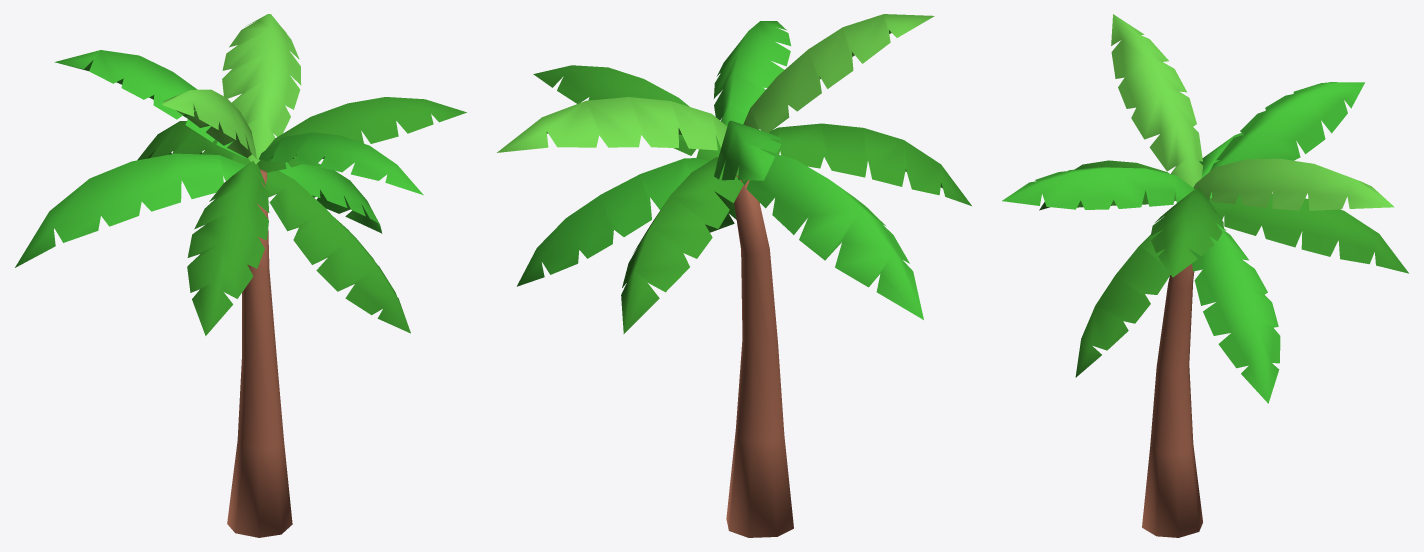
Rendered from Palm_Green_2.fbx.
3 renders of one model, left to right at view 1: azimuth 30°, elevation 25°; view 2: azimuth 150°, elevation 25°; view 3: azimuth 270°, elevation 25°, orthographic. The views are drawn at different scales.
Visible parts, largest first — view 1: Cube_001, Plane_008, Plane_007, Plane_012, Plane_003, Plane_006, Plane_009, Plane_011, Plane_004, Plane_010, Plane_005; view 2: Cube_001, Plane_008, Plane_005, Plane_003, Plane_010, Plane_007, Plane_004, Plane_009, Plane_006, Plane_011; view 3: Cube_001, Plane_010, Plane_004, Plane_003, Plane_011, Plane_005, Plane_009, Plane_012, Plane_006, Plane_007.
Part boxes in pixels (x1,y1,x2,y2): Cube_001: (227, 169, 292, 537); Plane_008: (15, 153, 245, 267); Plane_007: (187, 161, 269, 335); Plane_012: (265, 170, 410, 333); Plane_003: (222, 14, 301, 163); Plane_006: (257, 97, 466, 172); Plane_009: (258, 132, 423, 195); Plane_011: (54, 50, 249, 160); Plane_004: (162, 89, 257, 160); Plane_010: (279, 162, 382, 233); Plane_005: (137, 121, 250, 165); Cube_001: (726, 175, 793, 537); Plane_008: (742, 150, 923, 319); Plane_005: (621, 157, 744, 333); Plane_003: (497, 97, 727, 152); Plane_010: (517, 158, 708, 286); Plane_007: (761, 123, 971, 205); Plane_004: (743, 14, 934, 132); Plane_009: (714, 21, 790, 126); Plane_006: (533, 65, 720, 161); Plane_011: (714, 120, 781, 180); Cube_001: (1142, 249, 1202, 537); Plane_010: (1190, 223, 1280, 403); Plane_004: (1111, 14, 1202, 187); Plane_003: (1193, 158, 1394, 210); Plane_011: (1210, 82, 1364, 170); Plane_005: (1209, 193, 1408, 273); Plane_009: (1002, 167, 1194, 209); Plane_012: (1075, 229, 1170, 377); Plane_006: (1150, 188, 1223, 277); Plane_007: (1039, 160, 1176, 210).
Bounding box in the file's own units: 536 × 598 × 490.
